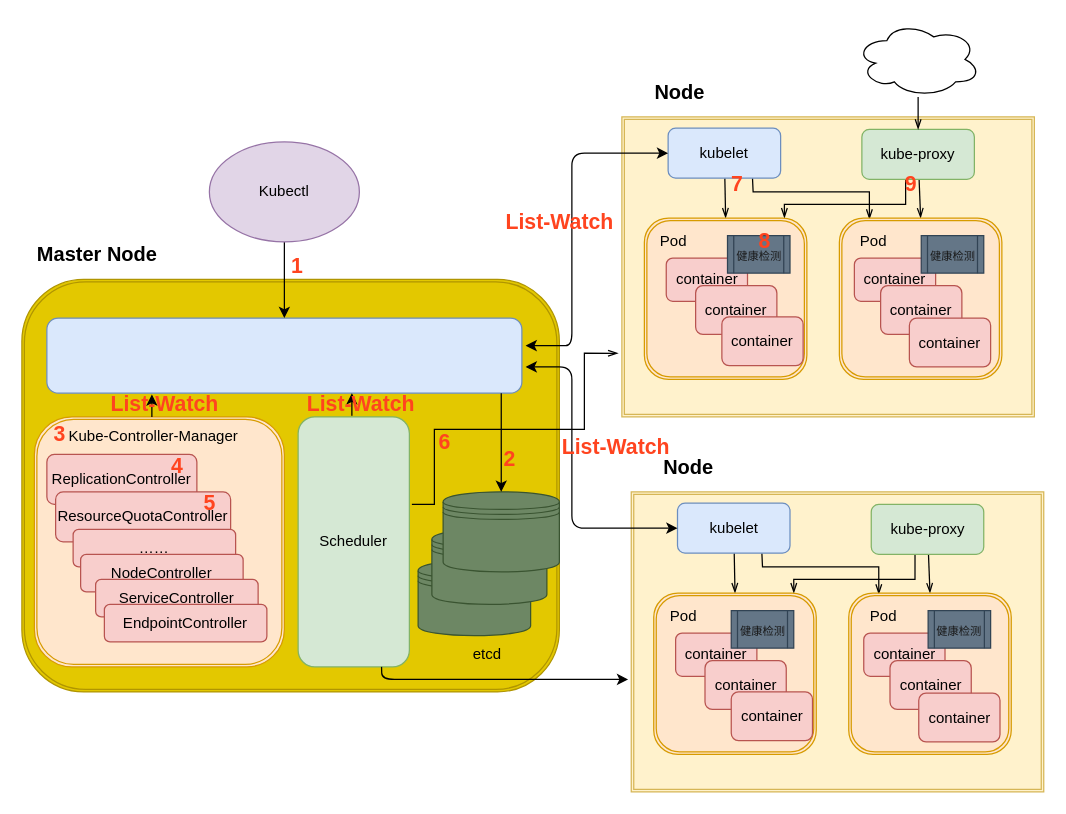
Image size: 1066x814. Some labels were removed from this diagram. The centre of each missing label's shape, as x and y in pixels:
"API-Server" goes at [284,355].
"Internet" goes at [917,59].
